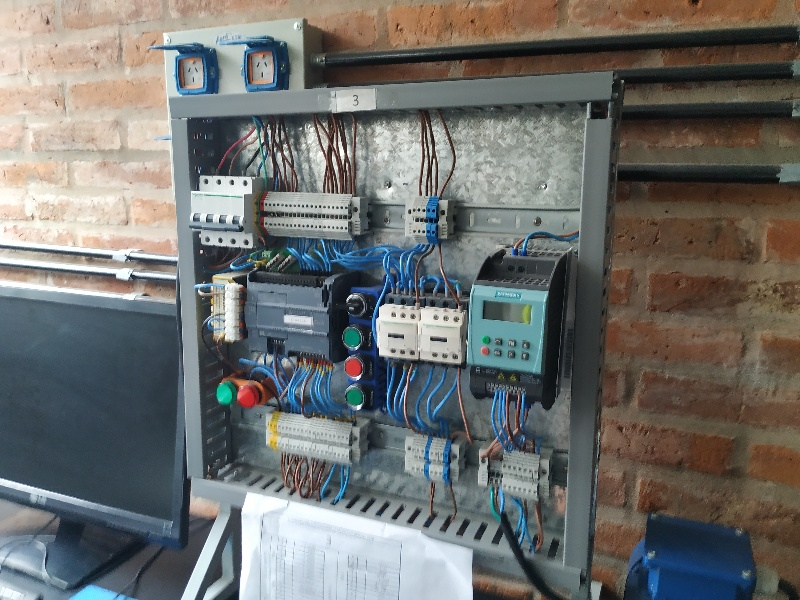Tablero 3: (187, 106, 582, 561)
